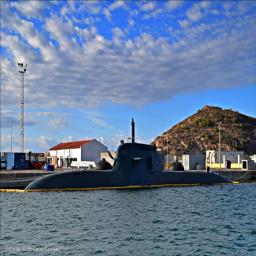submarine: (27, 117, 251, 191)
